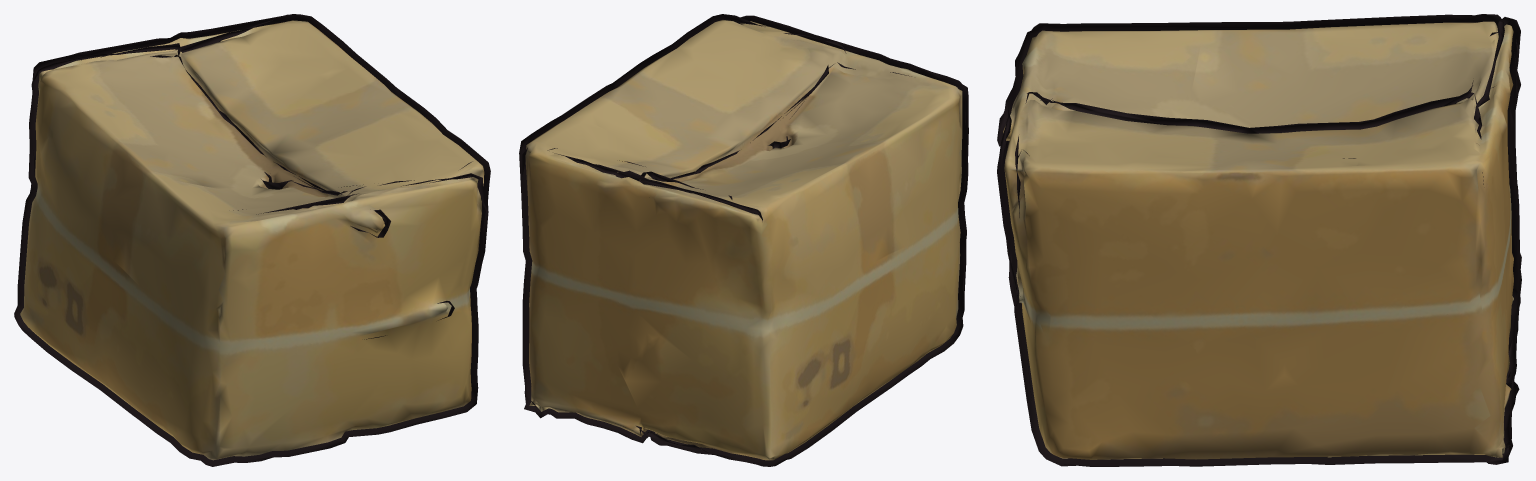
File: SM_Int_Box.fbx
3 renders of one model, left to right at view 1: azimuth 30°, elevation 25°; view 2: azimuth 150°, elevation 25°; view 3: azimuth 270°, elevation 25°, orthographic. The views are drawn at different scales.
Parts seen in each view (by area): view 1: SM_Int_Box; view 2: SM_Int_Box; view 3: SM_Int_Box.
Part boxes in pixels (box(x1,y1,x2,y2)): SM_Int_Box: box(14, 14, 490, 466); SM_Int_Box: box(519, 14, 968, 466); SM_Int_Box: box(997, 14, 1521, 466).
Size of what is drawn, in the model's own units: 0.4031 by 0.3571 by 0.5299.
